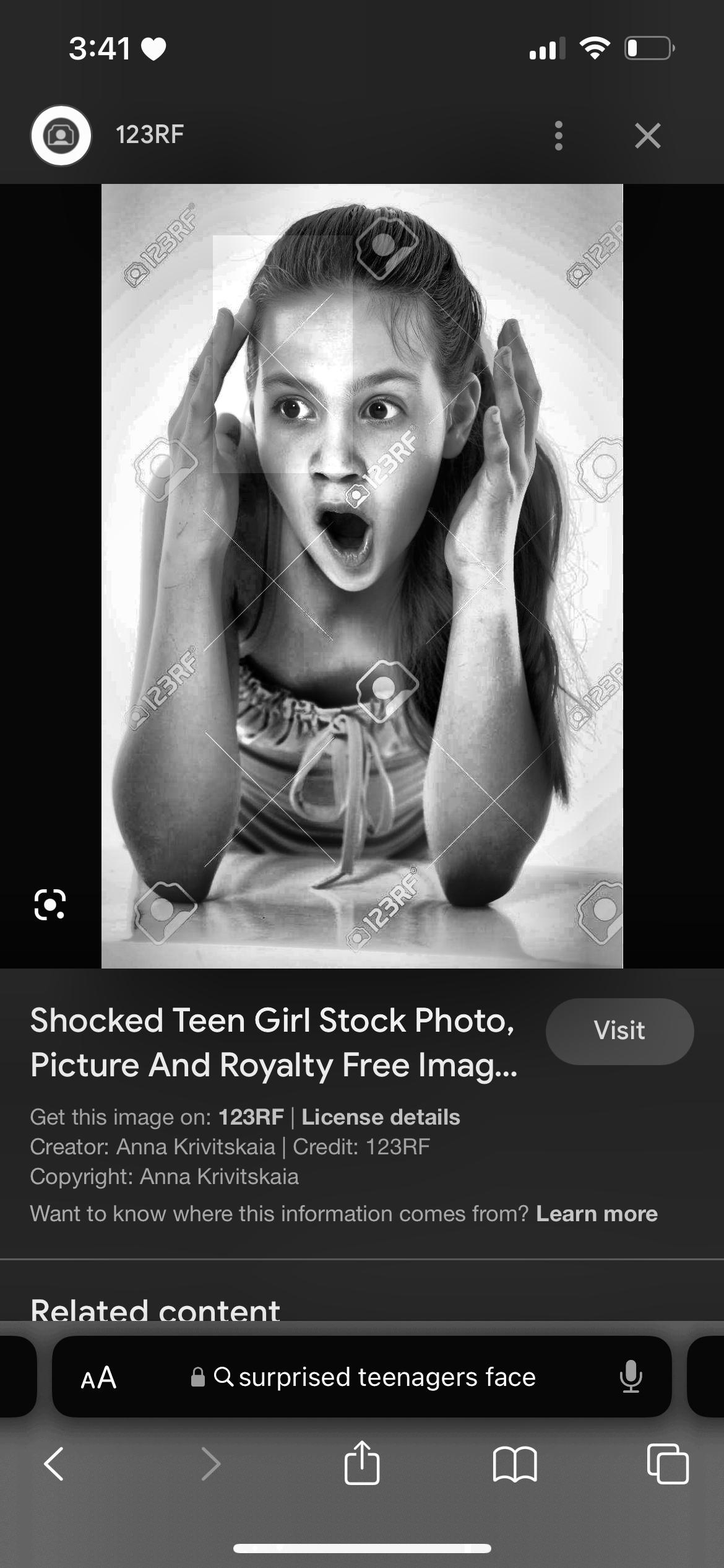surprised: (263, 291, 436, 585)
